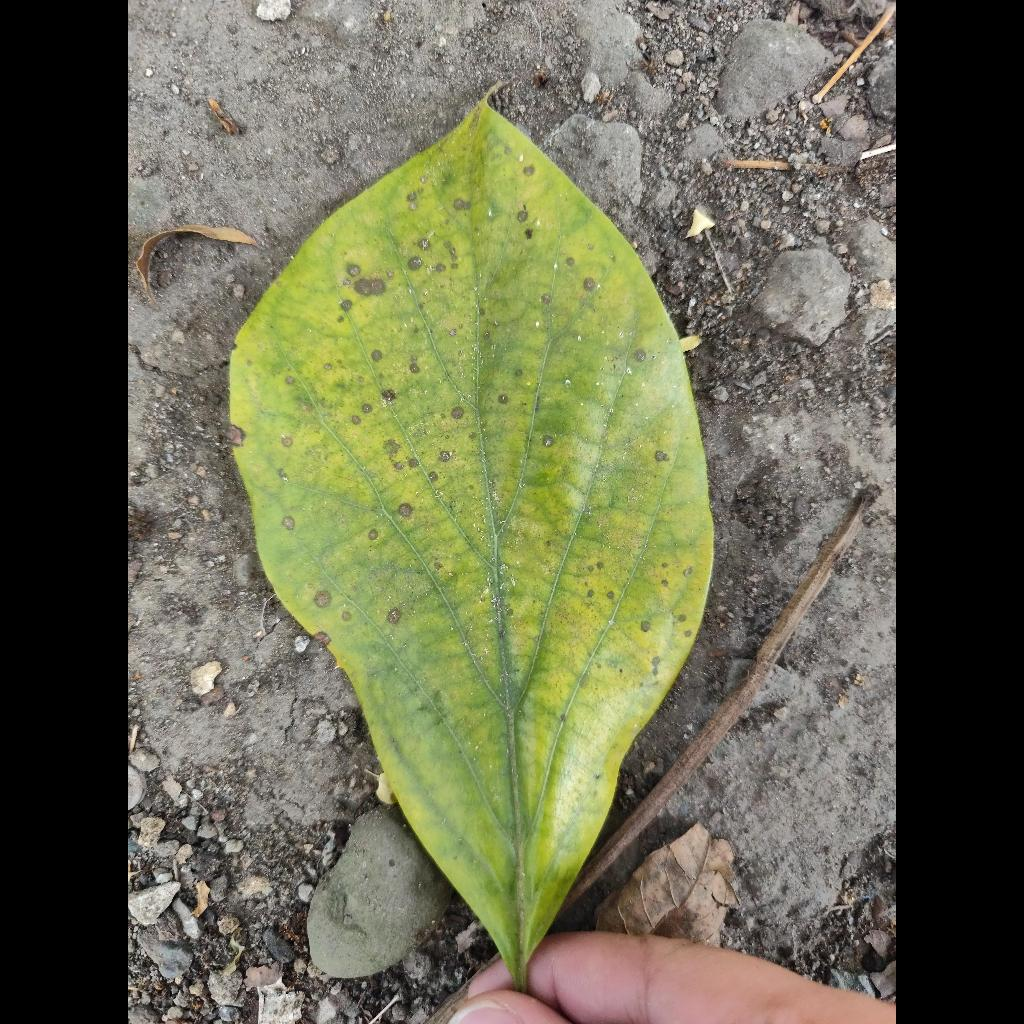nutrient_deficiency: (231, 98, 712, 988)
